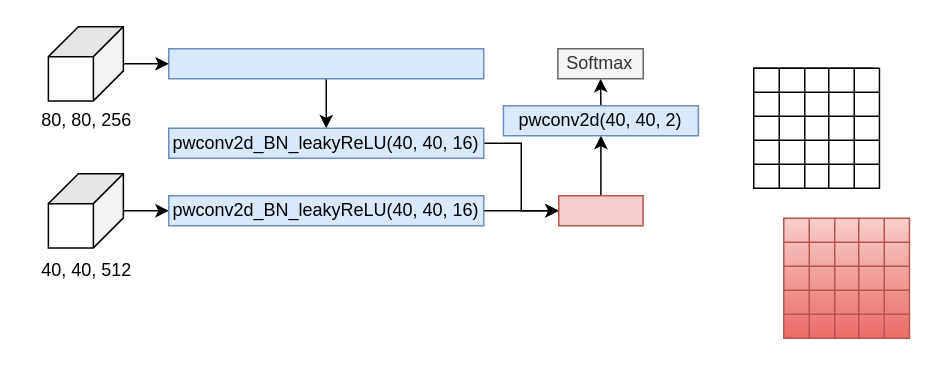
The diagram is 936 pixels wide and 365 high, and some of its shapes have lost their labels. Here are the shapes that lost their labels. From the top down, the box of each, then its label:
(167, 47, 484, 79): conv2d_BN_leakyReLU(40, 40, 512)
(557, 194, 643, 226): concat
